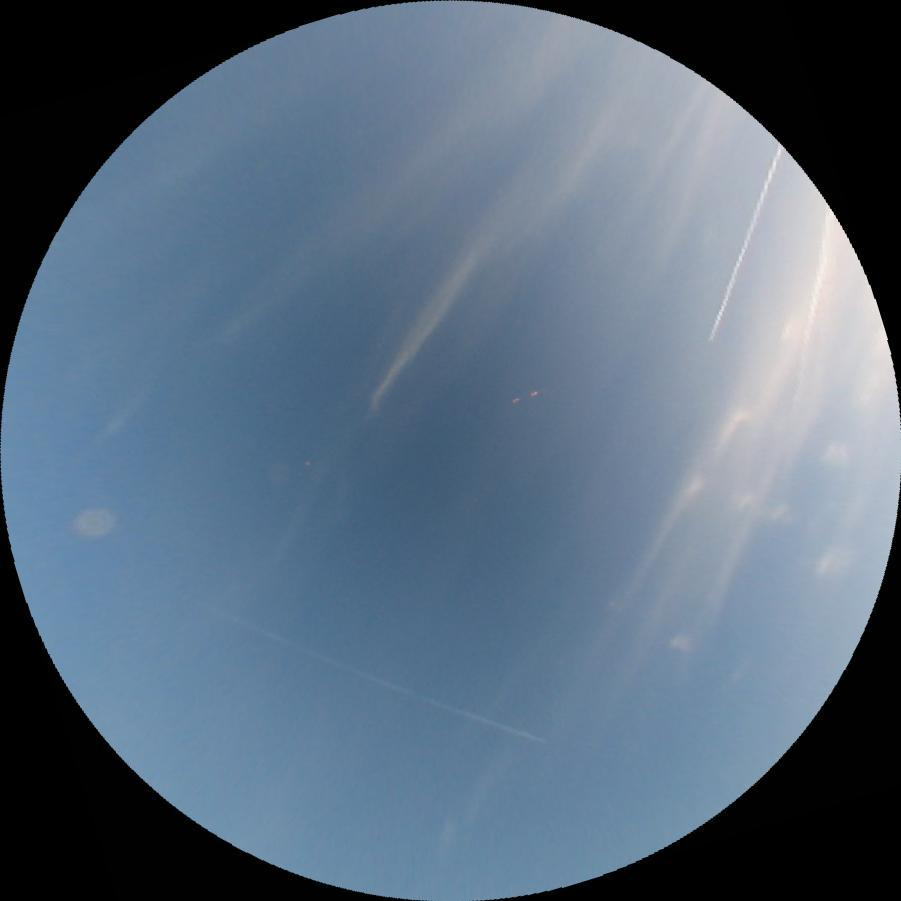contrail young: (201, 600, 554, 757), (704, 139, 785, 344)
